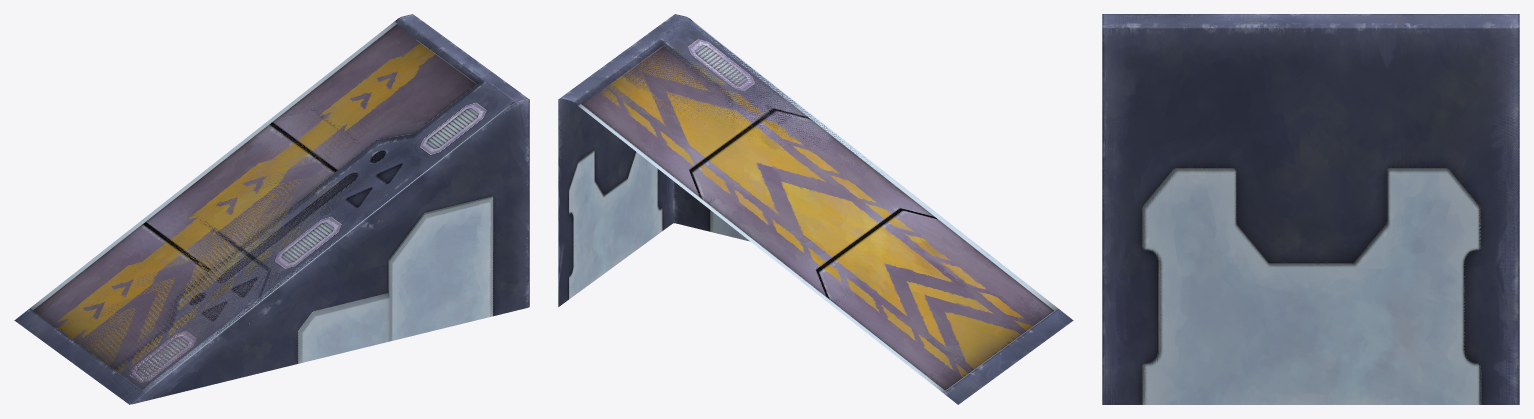
Rendered from SM_Ramp_3x2.fbx.
3 views of the same model, side by side, from view 1: azimuth 30°, elevation 25°; view 2: azimuth 150°, elevation 25°; view 3: azimuth 270°, elevation 25° (orthographic). The views are drawn at different scales.
Visible parts, largest first — view 1: SM_Ramp_3x2_End, SM_Ramp_3x2_Mid; view 2: SM_Ramp_3x2_Mid, SM_Ramp_3x2_End; view 3: SM_Ramp_3x2_End, SM_Ramp_3x2_Mid.
Part boxes in pixels (x1,y1,x2,y2): SM_Ramp_3x2_End: [14, 14, 528, 404]; SM_Ramp_3x2_Mid: [44, 15, 529, 404]; SM_Ramp_3x2_Mid: [558, 14, 1073, 404]; SM_Ramp_3x2_End: [558, 14, 967, 403]; SM_Ramp_3x2_End: [1104, 14, 1519, 404]; SM_Ramp_3x2_Mid: [1102, 14, 1519, 404].
Size of the model in its own units: 400 by 200 by 200.
